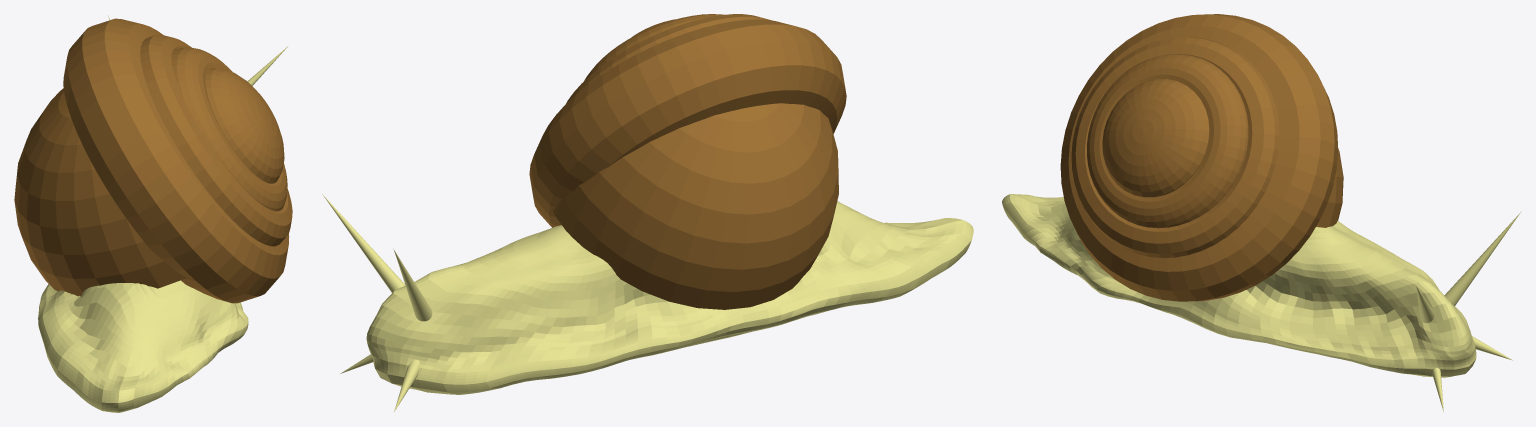
The model's file is snail.glb.
The picture shows the model from 3 angles, left to right: view 1: azimuth 30°, elevation 25°; view 2: azimuth 150°, elevation 25°; view 3: azimuth 270°, elevation 25°; orthographic projection. The views are drawn at different scales.
Parts seen in each view (by area): view 1: shell4, body, shell5, shell3, shell1, shell2; view 2: body, shell5, shell4, shell3, shell2, eyeLeft, eyeRight; view 3: body, shell4, shell3, shell2, shell1, eyeRight, shell5.
Part boxes in pixels (bbox=[...]): shell4: bbox=[63, 18, 289, 303]; body: bbox=[38, 280, 248, 412]; shell5: bbox=[14, 88, 186, 296]; shell3: bbox=[140, 34, 292, 246]; shell1: bbox=[205, 68, 284, 183]; shell2: bbox=[172, 47, 287, 211]; body: bbox=[340, 201, 973, 411]; shell5: bbox=[553, 103, 838, 309]; shell4: bbox=[529, 19, 846, 227]; shell3: bbox=[566, 14, 771, 103]; shell2: bbox=[584, 14, 724, 80]; eyeLeft: bbox=[322, 194, 405, 292]; eyeRight: bbox=[393, 249, 432, 321]; body: bbox=[1002, 194, 1512, 412]; shell4: bbox=[1060, 14, 1338, 301]; shell3: bbox=[1071, 37, 1279, 258]; shell2: bbox=[1087, 54, 1248, 228]; shell1: bbox=[1102, 79, 1209, 197]; eyeRight: bbox=[1444, 211, 1521, 306]; shell5: bbox=[1316, 149, 1343, 227].
Size of the model in its own units: 0.239 by 0.1723 by 0.2889.
